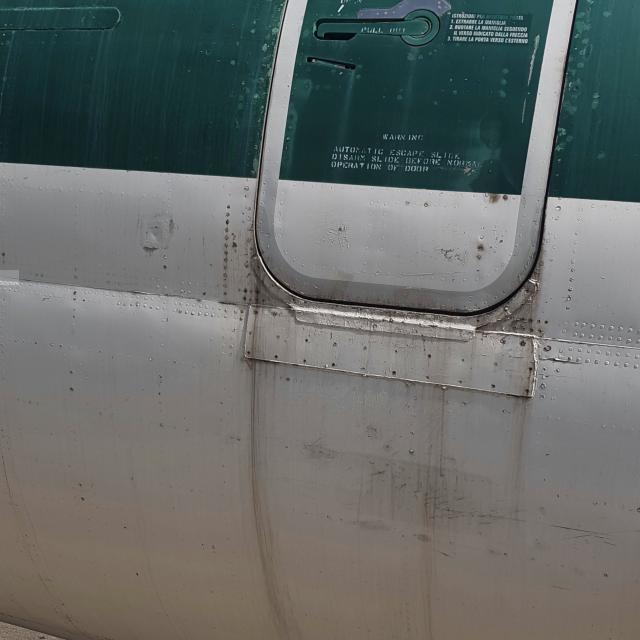crack: (1, 271, 20, 286)
